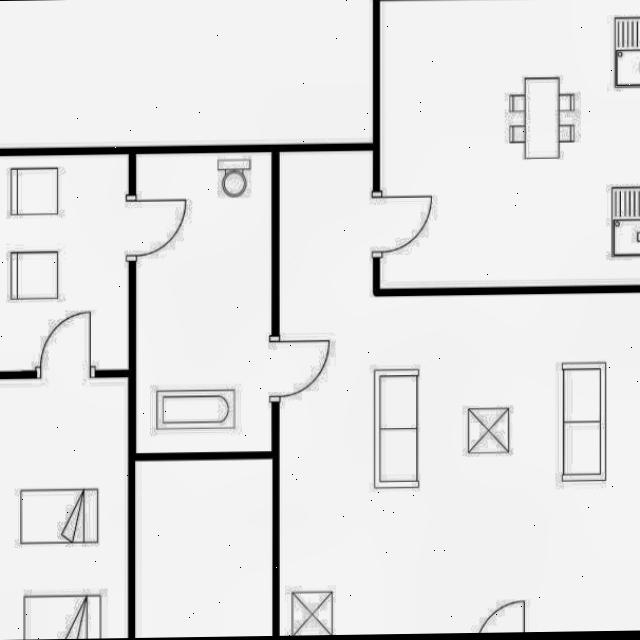room: (279, 150, 640, 636), (380, 0, 640, 288), (136, 151, 272, 452), (0, 376, 128, 640), (0, 153, 129, 370)
